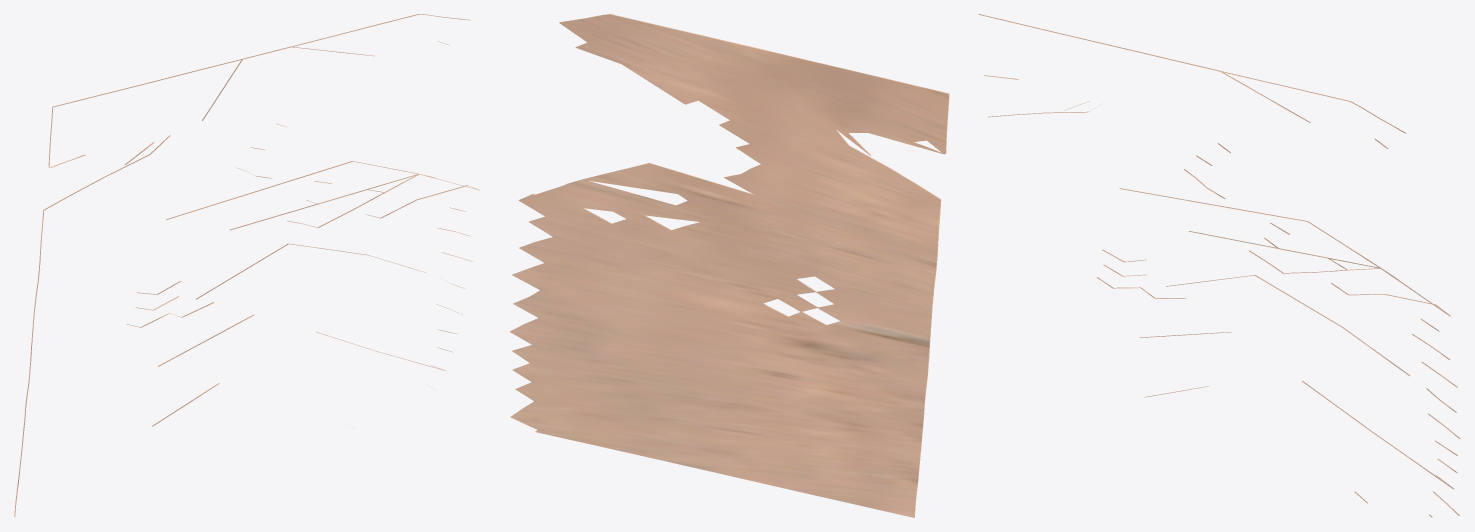
3 renders of one model, left to right at view 1: azimuth 30°, elevation 25°; view 2: azimuth 150°, elevation 25°; view 3: azimuth 330°, elevation 25°, orthographic. The views are drawn at different scales.
Size of the model in its own units: 27.37 by 25.45 by 4.88.
1 material, 1 textured.
